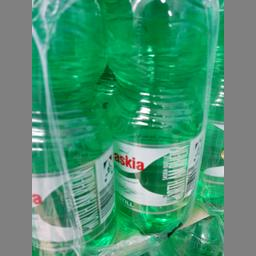water: (104, 0, 216, 234), (30, 0, 116, 255)
